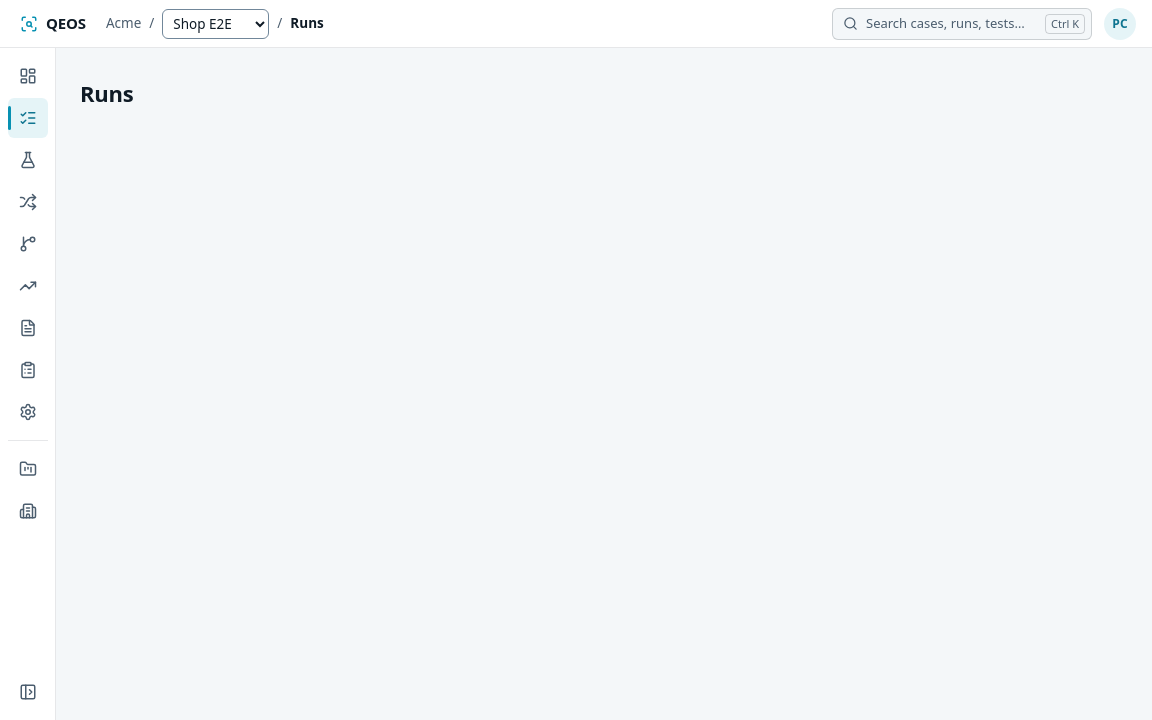
user menu › the avatar is a disclosure: initials, aria-expanded, then the email, Security, Organization and Sign out last
The width and height of the screenshot is (1152, 720).
Step 1. Click the button with aria-label "Account menu for pedro.carneiro@example.com" → (1120, 24), box [1104,8,1136,40]
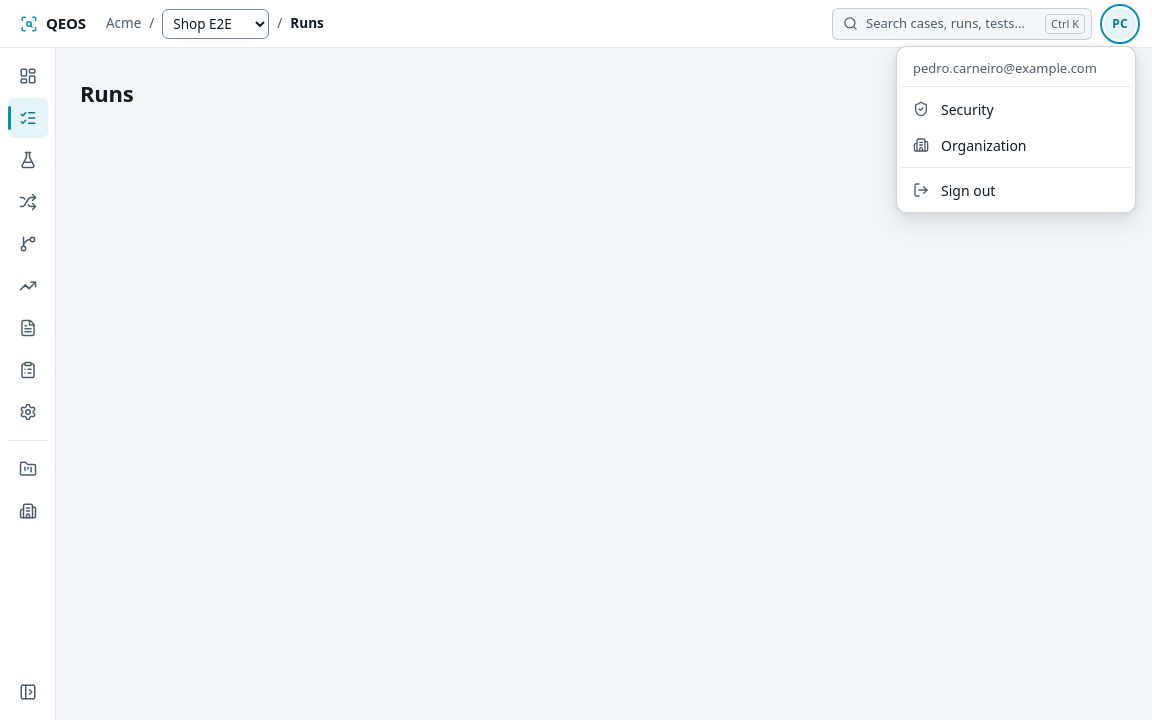
Expected: the text "pedro.carneiro@example.com" is shown, [901,50,1131,87]
Expected: the link "Organization" is shown, [913,136,1026,154]
Expected: the list items read "Security", "Organization", "Sign out", in this order, [913,100,994,118]; [913,136,1026,154]; [901,167,1131,208]
